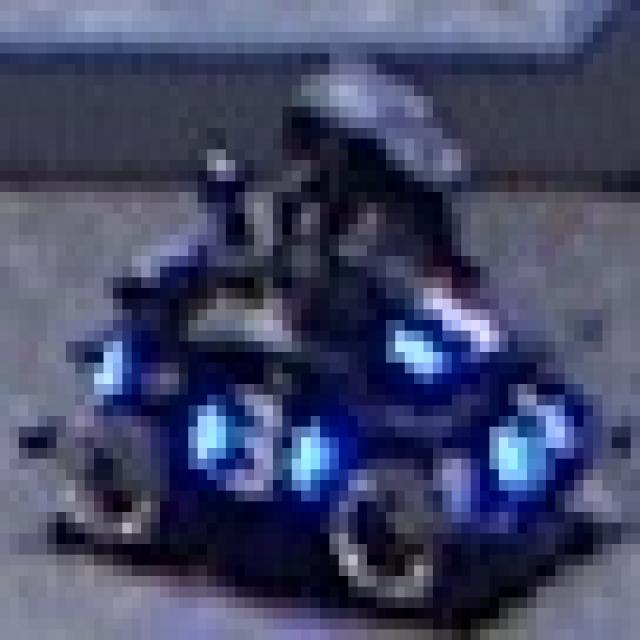B3: (179, 384, 320, 512)
